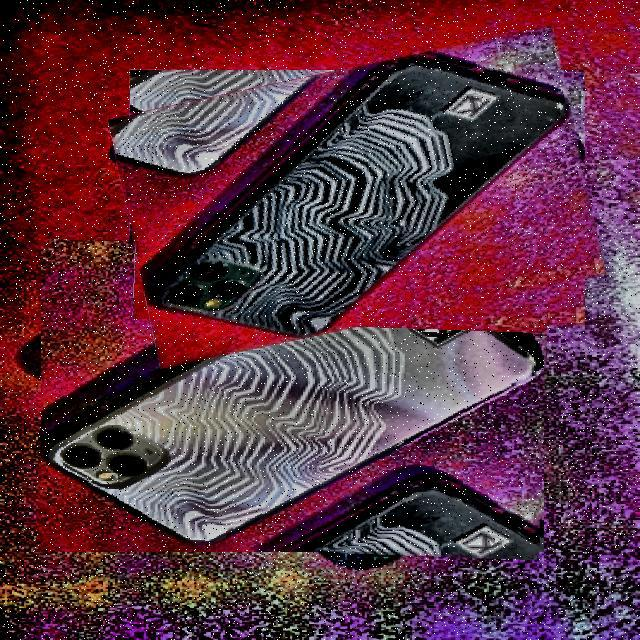Phone: (39, 244, 546, 556), (119, 46, 596, 348)
